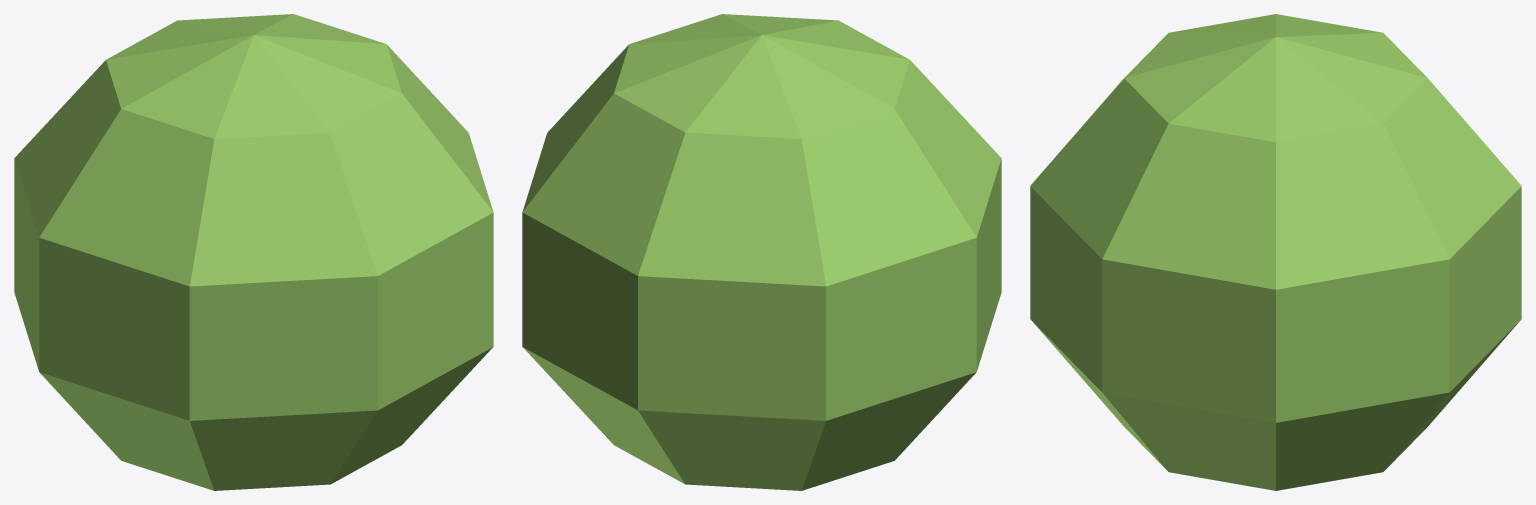
File: Food_Cabbage.obj
The picture shows the model from 3 angles, left to right: view 1: azimuth 30°, elevation 25°; view 2: azimuth 150°, elevation 25°; view 3: azimuth 270°, elevation 25°; orthographic projection.
Size of the model in its own units: 1.9 by 1.84 by 1.9.
